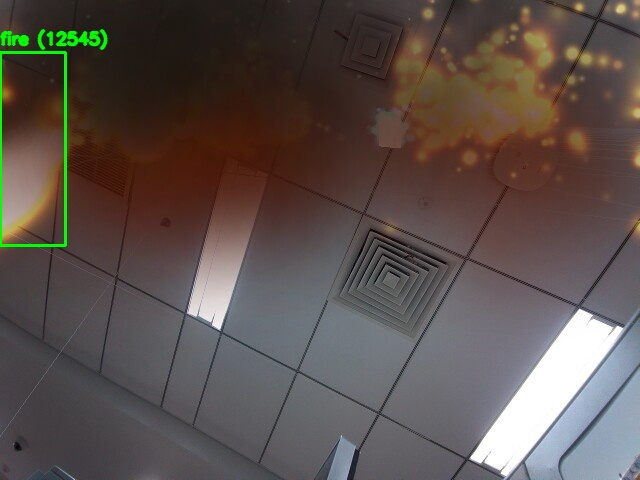fire: (0, 52, 65, 245)
